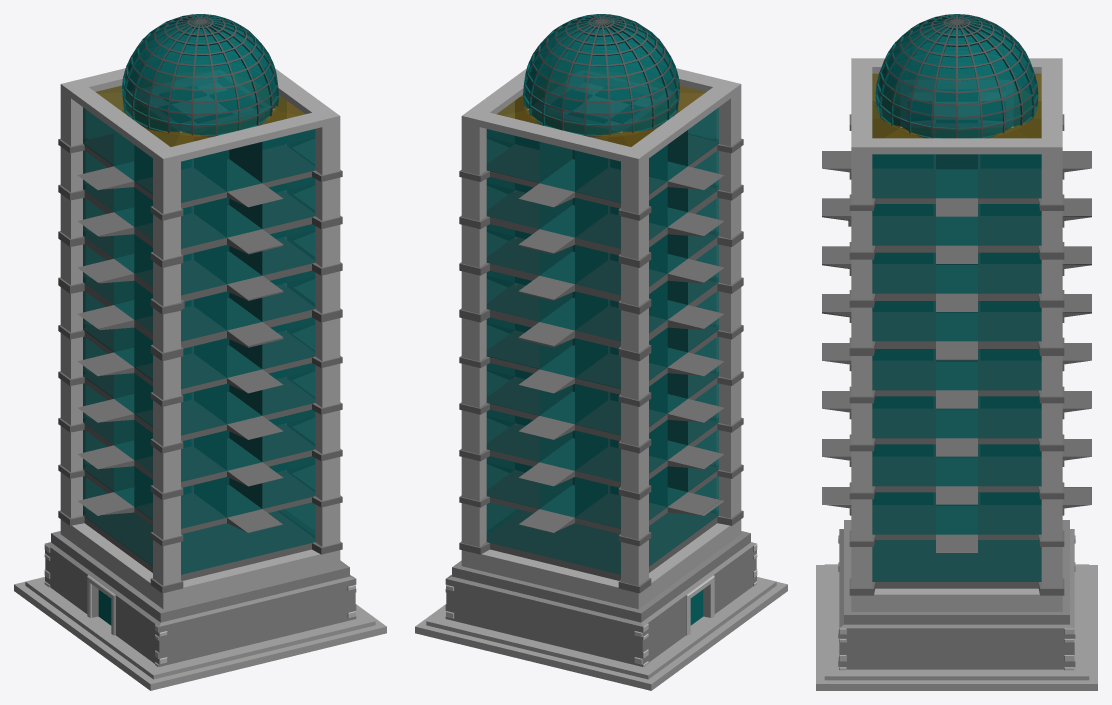
File: Drone building.fbx
The picture shows the model from 3 angles, left to right: view 1: azimuth 30°, elevation 25°; view 2: azimuth 150°, elevation 25°; view 3: azimuth 270°, elevation 25°; orthographic projection. The views are drawn at different scales.
Parts seen in each view (by area): view 1: pCube16; view 2: pCube16; view 3: pCube16.
Part boxes in pixels (left/top/right/bottom): pCube16: left=14, top=14, right=386, bottom=690; pCube16: left=415, top=14, right=787, bottom=690; pCube16: left=816, top=14, right=1097, bottom=690.
Size of the model in its own units: 910 by 2172 by 910.
